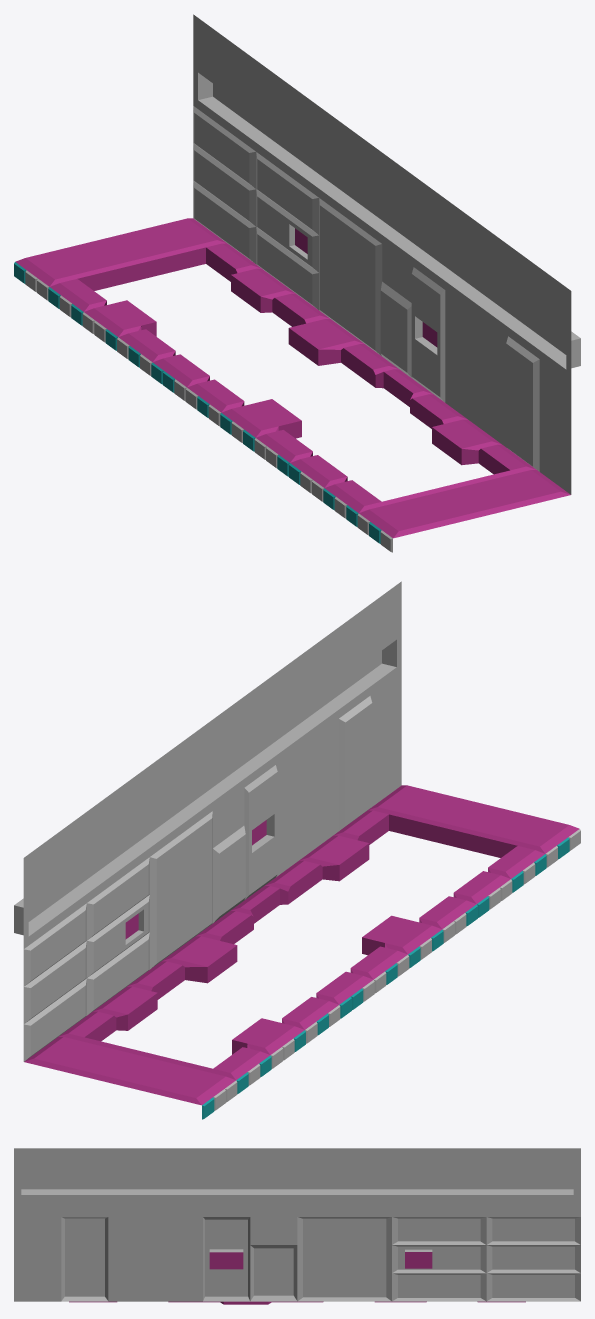
The model's file is roadJump.fbx.
The picture shows the model from 3 angles, top to bottom: view 1: azimuth 30°, elevation 25°; view 2: azimuth 150°, elevation 25°; view 3: azimuth 270°, elevation 25°; orthographic projection. The views are drawn at different scales.
Visible parts, largest first — view 1: road.001; view 2: road.001; view 3: road.001.
Part boxes in pixels (box(x1,y1,x2,y2)): road.001: box(14, 14, 580, 552); road.001: box(14, 581, 580, 1119); road.001: box(14, 1148, 580, 1304).
Bounding box in the file's own units: 722 × 775 × 2429.
